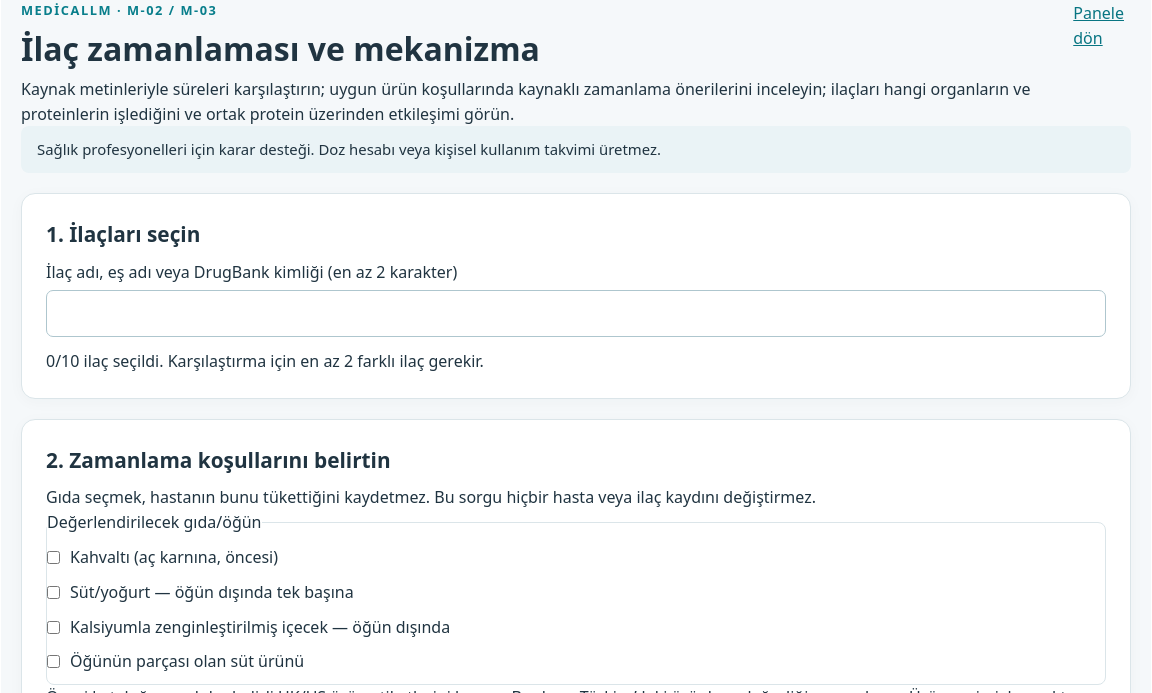
Test case: M03 on the M-02 screen › M03: one selected drug can open its organ/protein profile without an M-02 comparison
Type "Drug" into the field labelled "İlaç adı, eş adı veya DrugBank kimliği (en az 2 karakter)" at coordinates (576, 314), box [46,290,1106,337]
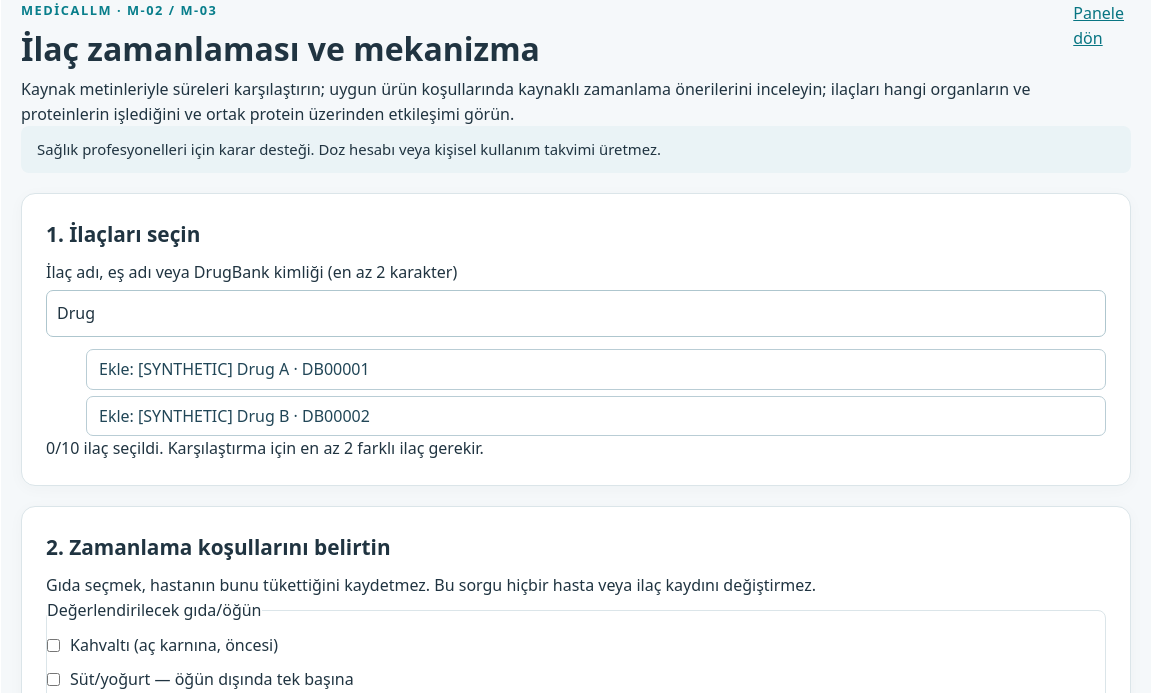
Click the button "Ekle: [SYNTHETIC] Drug A · DB00001" at coordinates (119, 369), box [86,349,1106,390]
(page scrolled)
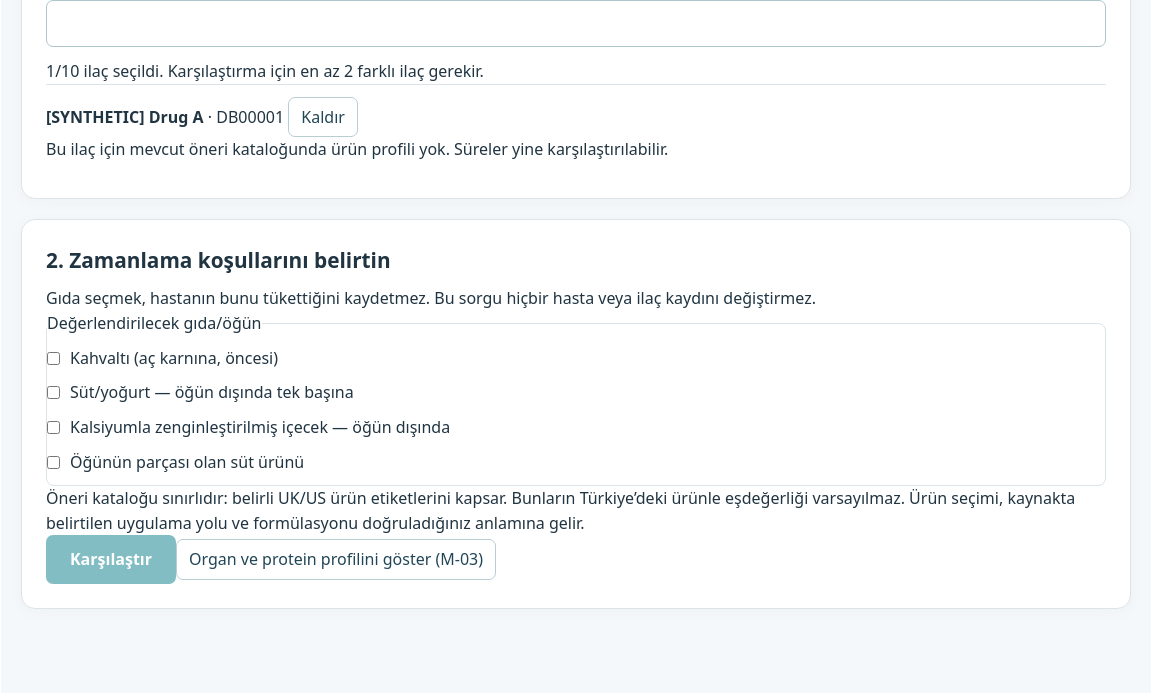
expect the button "Karşılaştır" is disabled: met, box [46,536,176,584]
Click the button "Organ ve protein profilini göster (M-03)" at coordinates (336, 560), box [176,540,496,580]
(page scrolled)
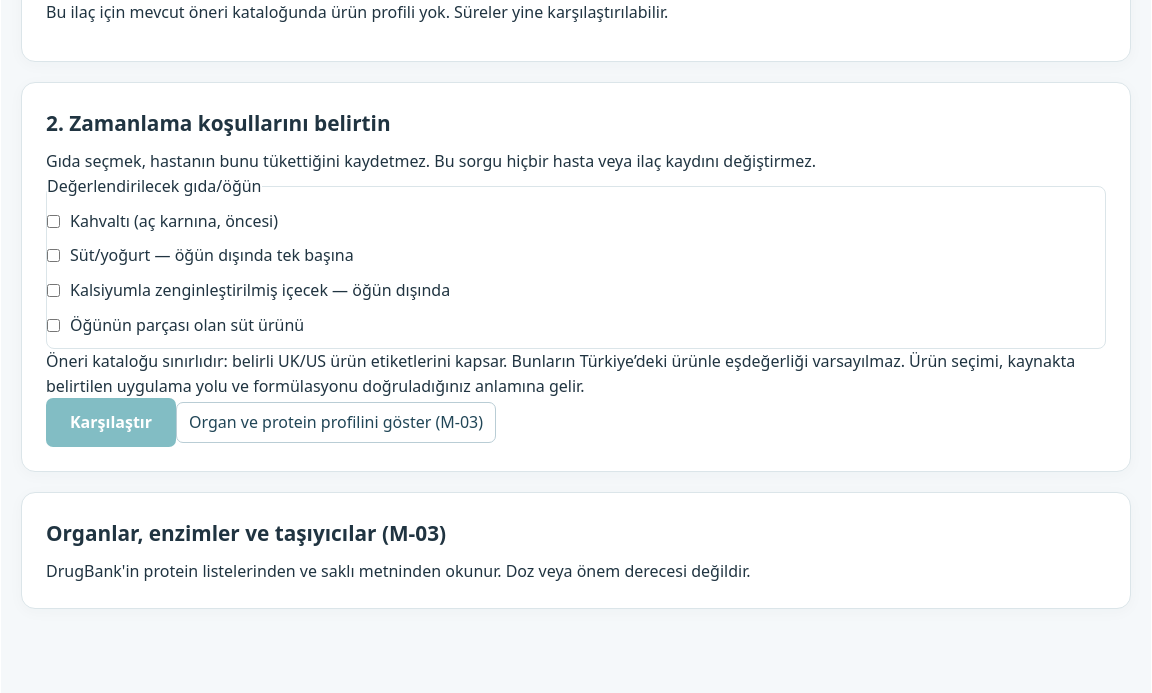
expect the element with test id "m03-mechanism" is shown: met, box [21,492,1131,609]
